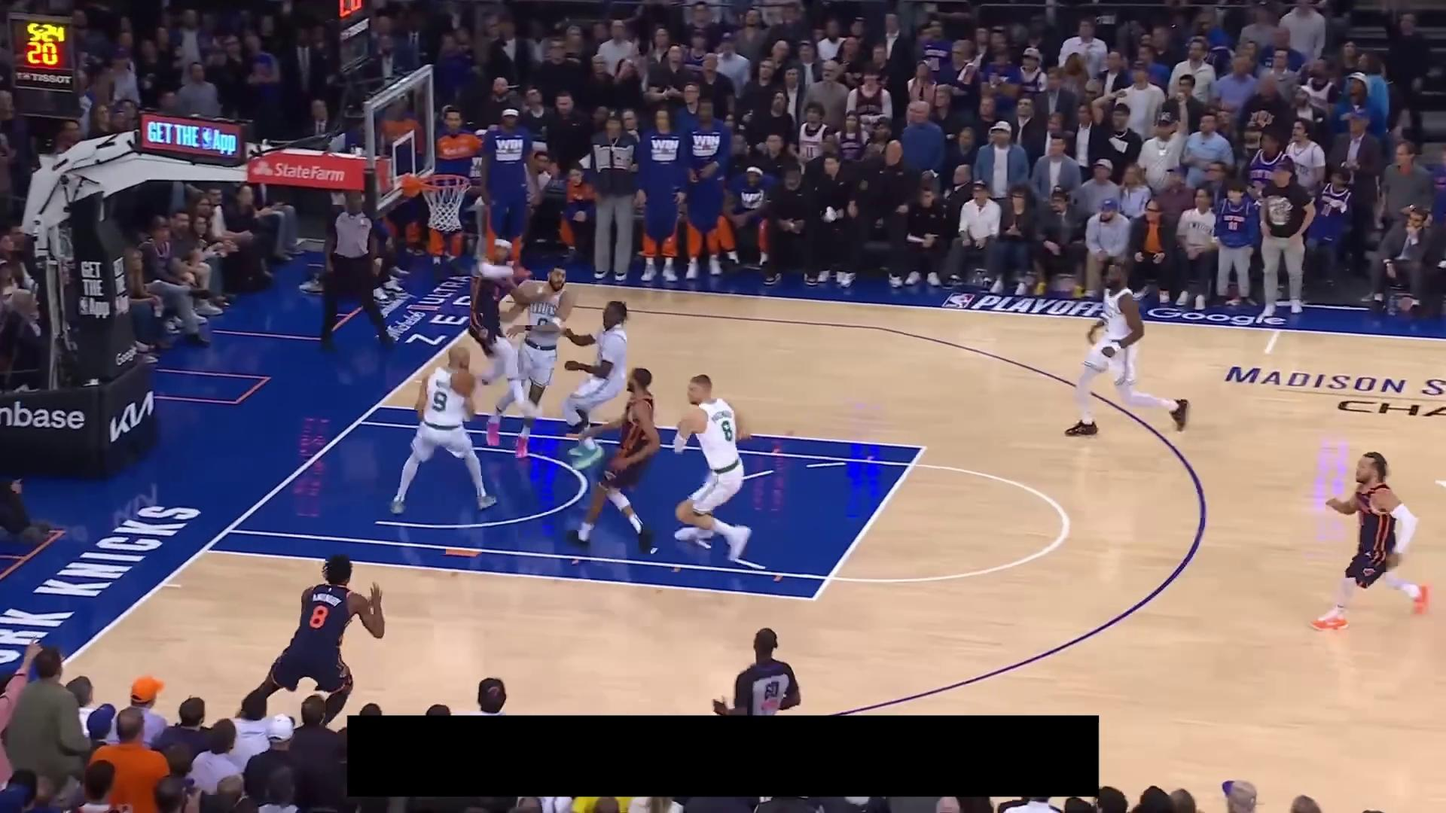ball: (451, 369, 478, 397)
number: (307, 603, 328, 629), (432, 390, 448, 413), (719, 419, 734, 443)
player: (232, 551, 387, 726), (1060, 260, 1192, 438), (1307, 448, 1433, 632), (567, 366, 667, 556), (391, 342, 499, 517), (482, 263, 576, 458), (673, 372, 753, 559), (556, 294, 640, 466), (466, 234, 541, 424)
referee: (315, 184, 400, 344), (713, 625, 805, 719)
rim: (421, 172, 474, 192)
